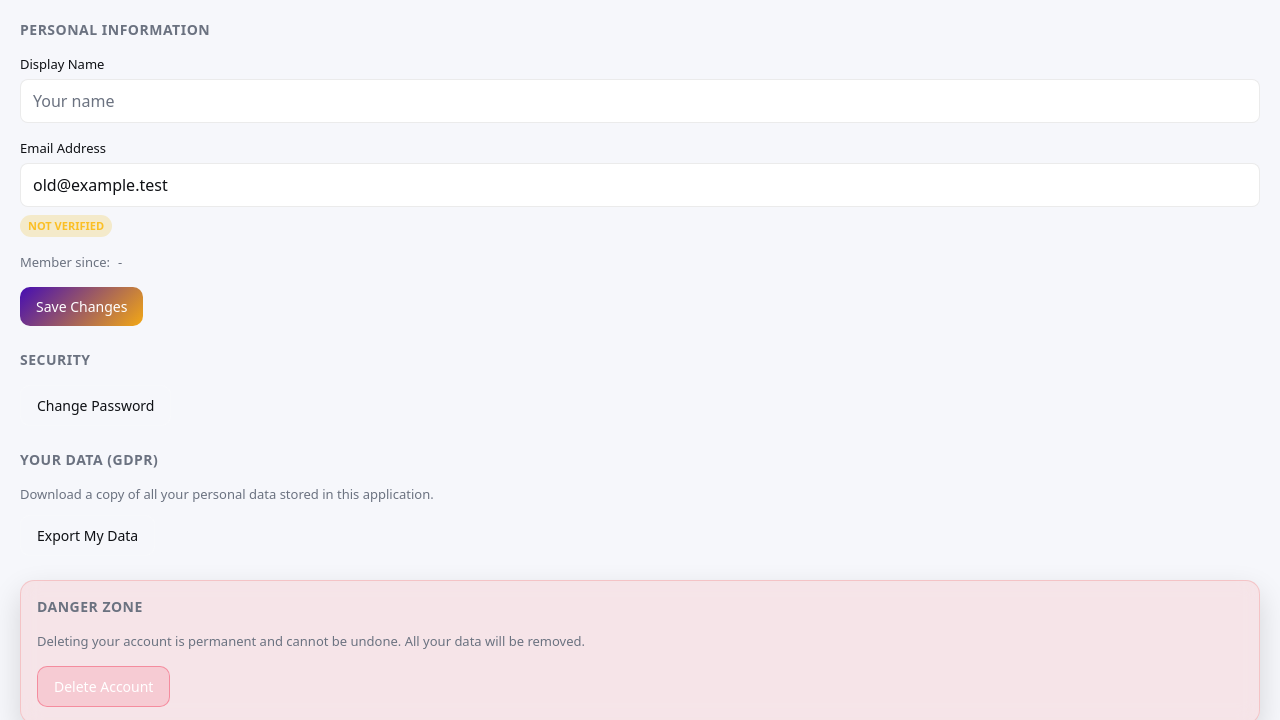
Scenario: ProfileSettings name field › lets an account without a name change its e-mail address: no name is sent
The image size is (1280, 720).
Expected: the field with placeholder "Your name" is empty, x1=20 y1=79 x2=1260 y2=123
Replace the text in the field with placeholder "your@email.com" with "new@example.test" at [640, 185], box x1=20 y1=163 x2=1260 y2=207
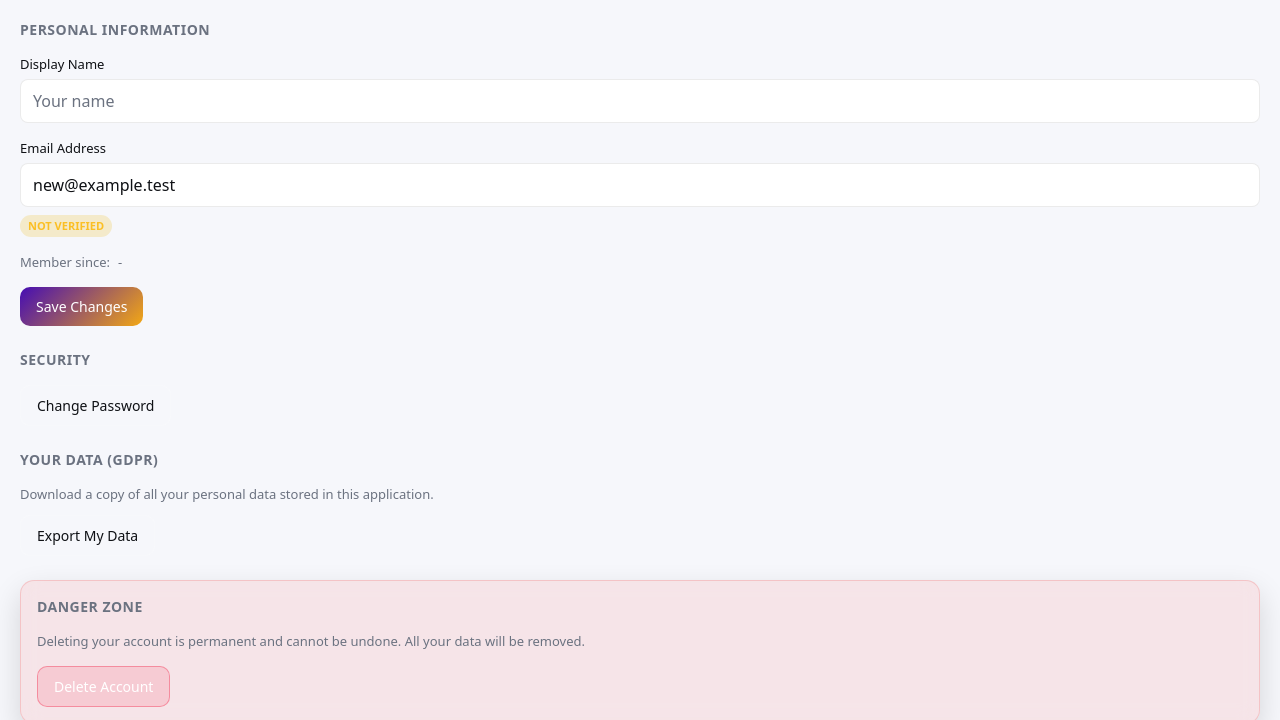
Click the button "Save Changes".
click(82, 306)  # box x1=20 y1=287 x2=143 y2=326
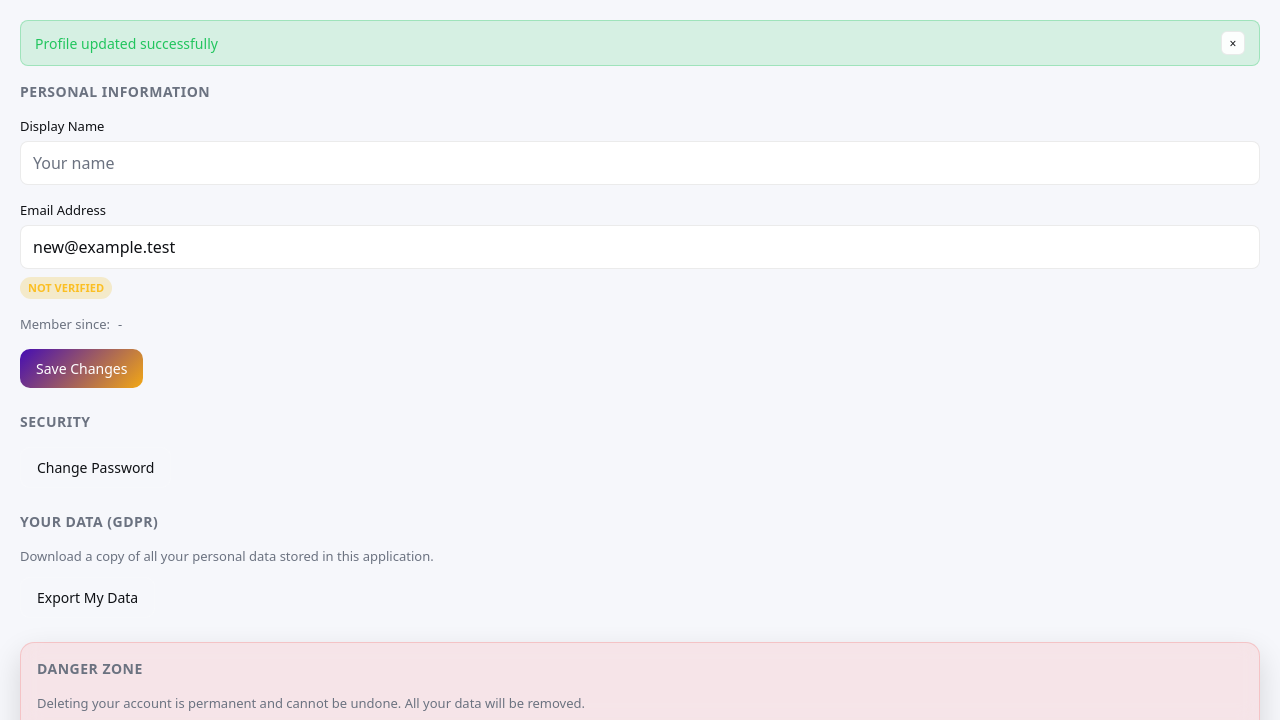
Result: the text "Profile updated successfully" is shown at x1=35 y1=34 x2=218 y2=52
